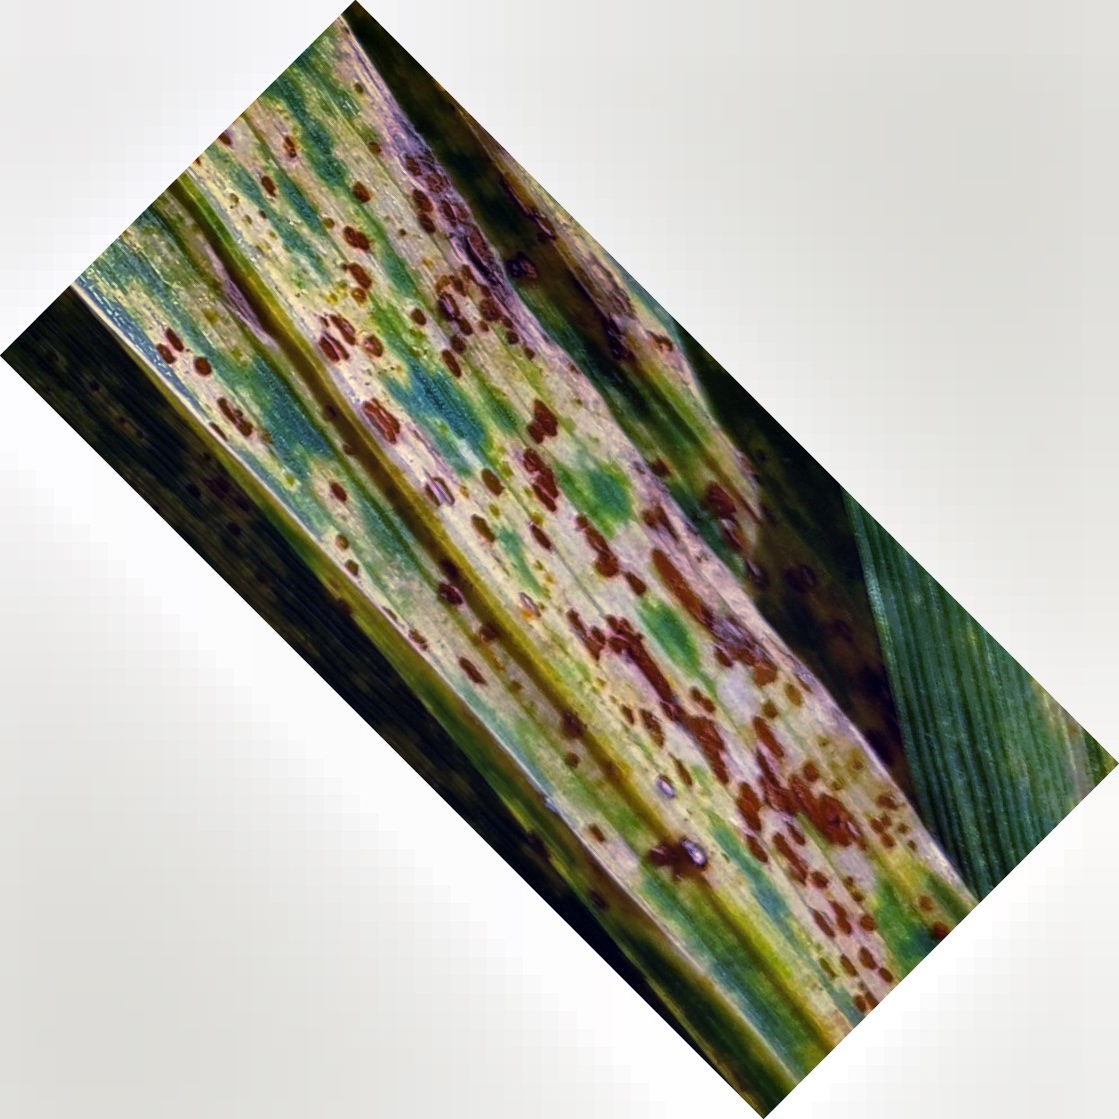Leaf Rust: (209, 211, 918, 943)
